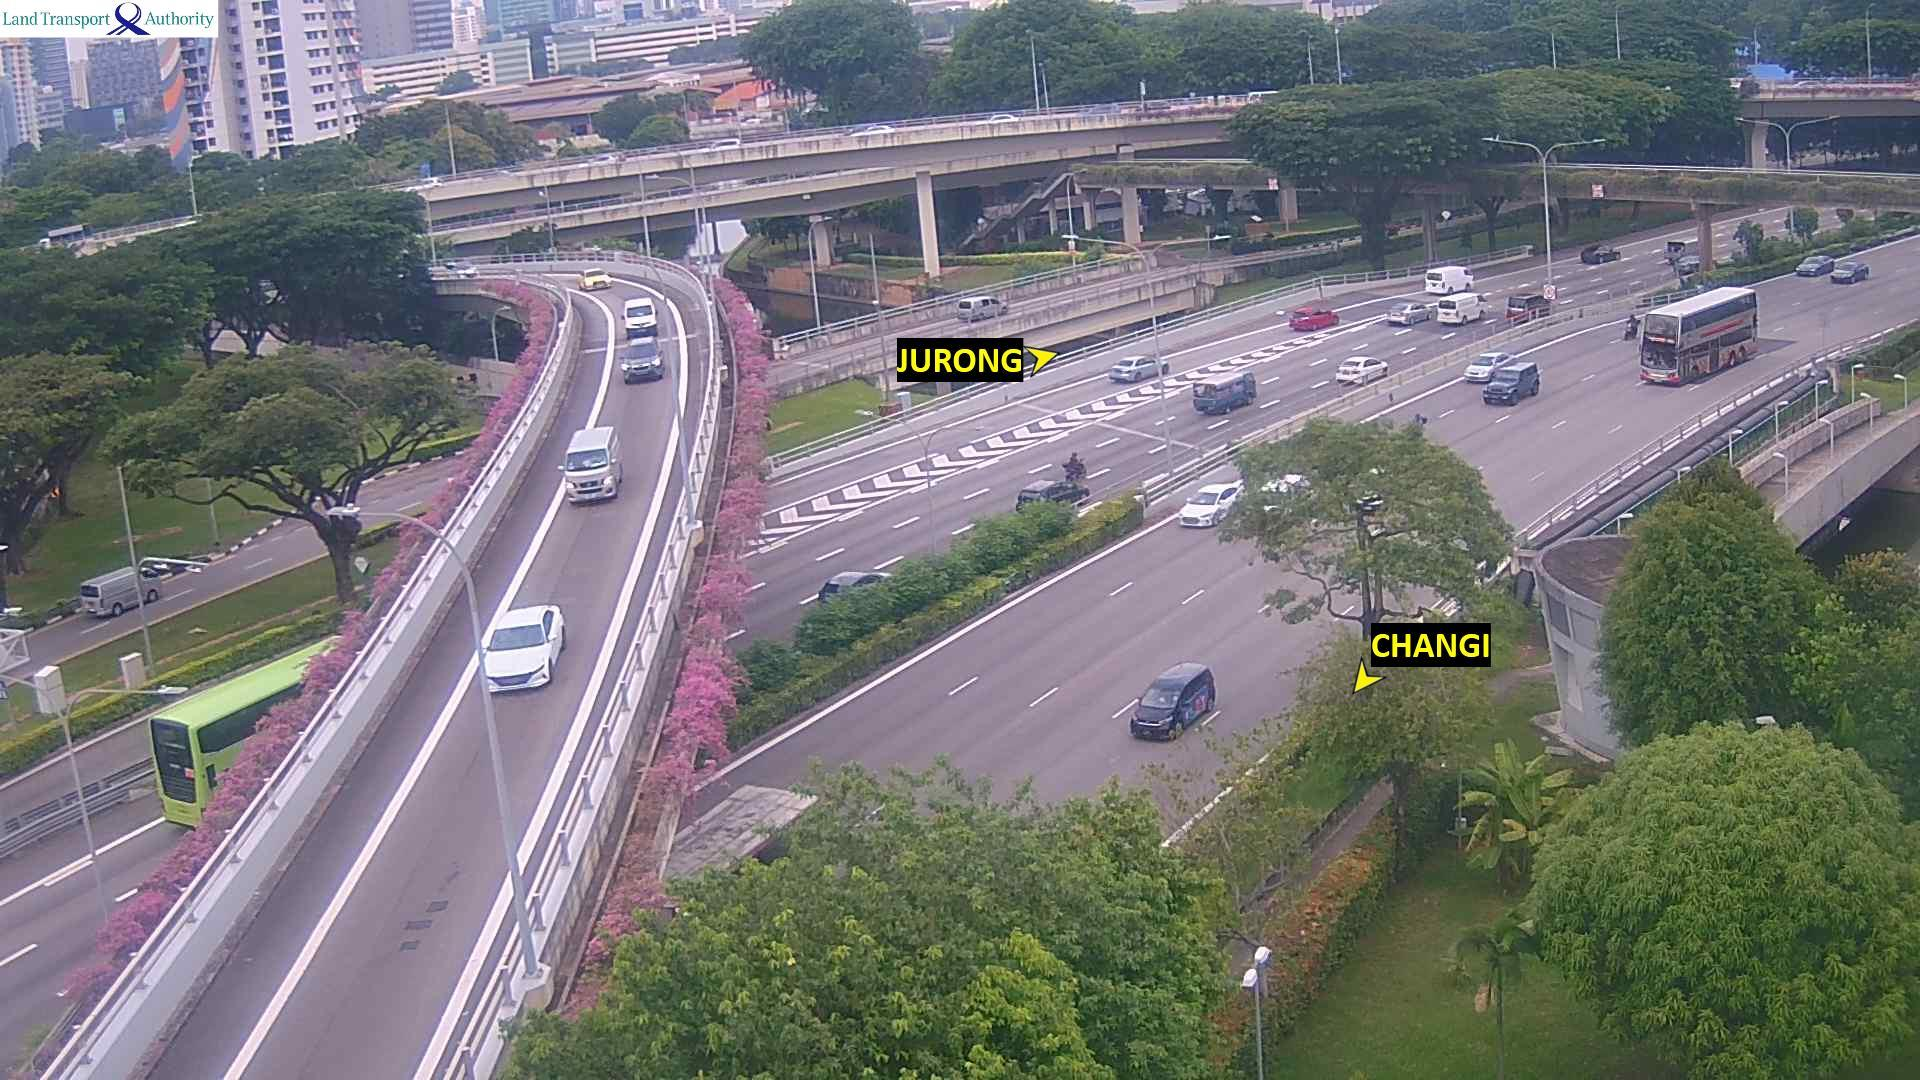incoming: (481, 623, 562, 694), (1636, 313, 1685, 392), (555, 451, 620, 504), (1129, 687, 1190, 743), (616, 345, 664, 383), (1180, 493, 1225, 527), (1486, 370, 1525, 408), (618, 307, 661, 335), (1463, 354, 1498, 384), (583, 271, 614, 294), (1831, 264, 1858, 288), (1795, 256, 1825, 277), (1622, 322, 1635, 346), (456, 264, 477, 278)
